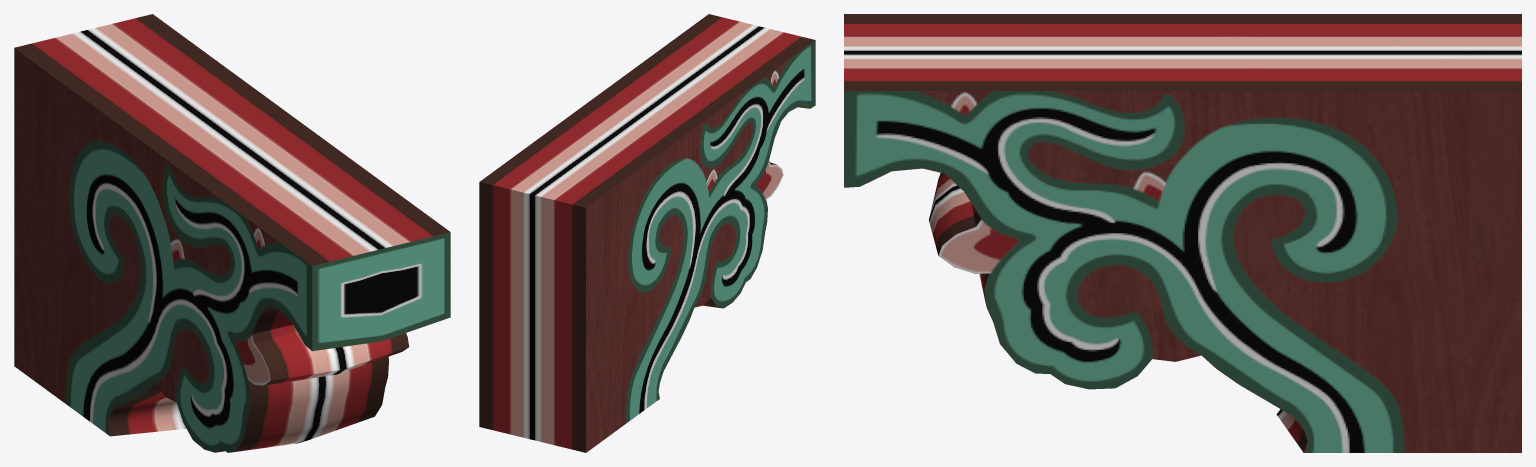
The model's file is SM_Boaji02C.fbx.
3 views of the same model, side by side, from view 1: azimuth 30°, elevation 25°; view 2: azimuth 150°, elevation 25°; view 3: azimuth 270°, elevation 25° (orthographic). The views are drawn at different scales.
Parts seen in each view (by area): view 1: SM_Boaji02C; view 2: SM_Boaji02C; view 3: SM_Boaji02C.
Boxes of the visible parts, bbox=[...] form: SM_Boaji02C: bbox=[14, 14, 450, 452]; SM_Boaji02C: bbox=[479, 14, 815, 452]; SM_Boaji02C: bbox=[844, 14, 1521, 452].
Bounding box in the file's own units: 17.32 × 64.53 × 38.03.
1 material, 1 textured.
